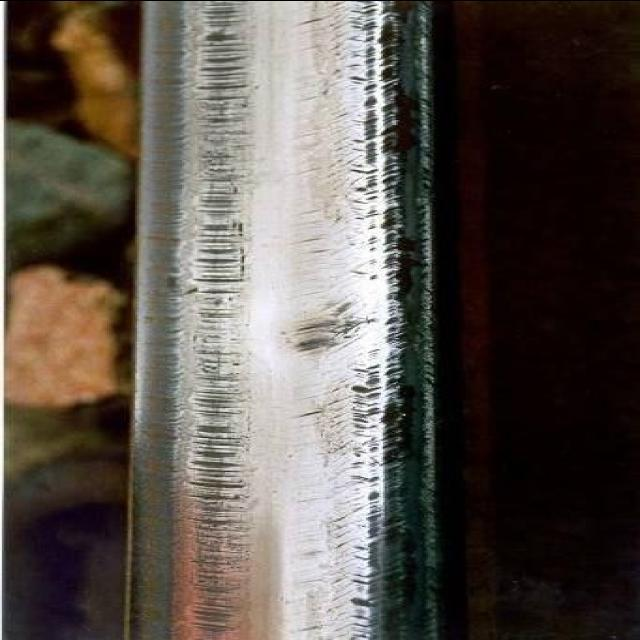squats_low: (197, 15, 433, 634)
